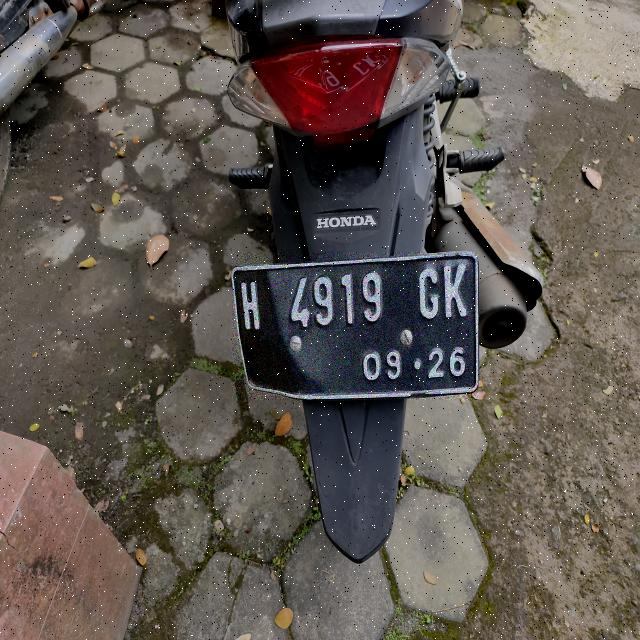plate: (232, 253, 477, 399)
